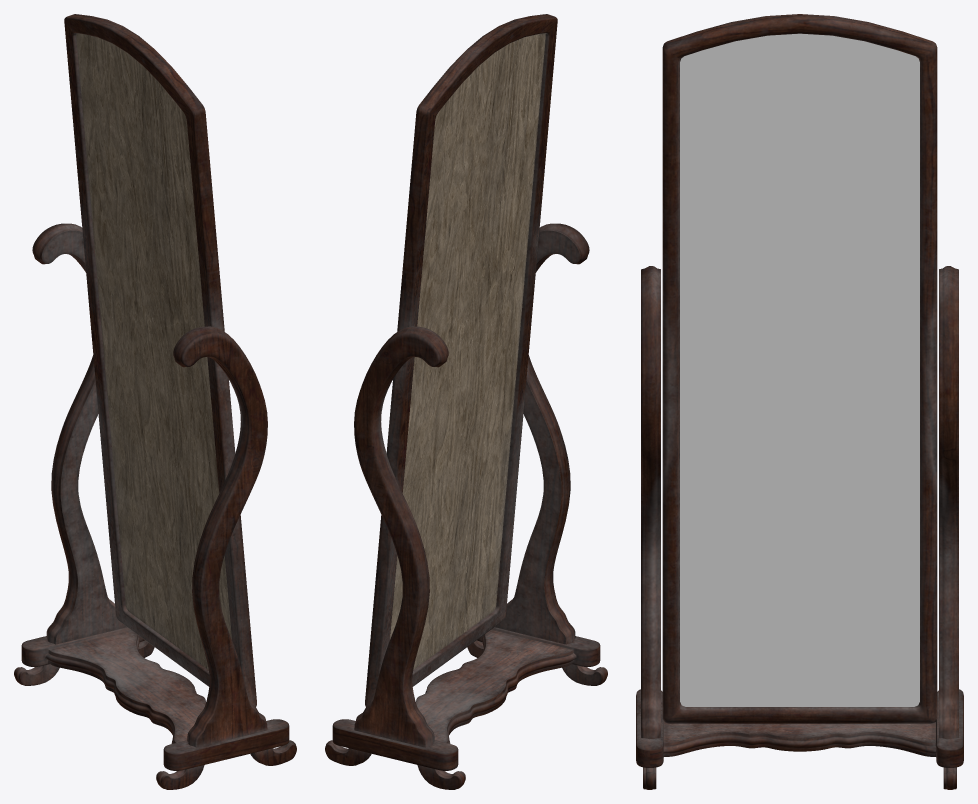
3 views of the same model, side by side, from view 1: azimuth 30°, elevation 25°; view 2: azimuth 150°, elevation 25°; view 3: azimuth 270°, elevation 25° (orthographic). The views are drawn at different scales.
Visible parts, largest first — view 1: mirrorAMirrorBack_mirrorA_Mat_0, mirrorAArms_mirrorA_Mat_0, mirrorAFrame_mirrorA_Mat_0, mirrorABasePlate_mirrorA_Mat_0, mirrorALegs_mirrorA_Mat_0; view 2: mirrorAMirrorBack_mirrorA_Mat_0, mirrorAArms_mirrorA_Mat_0, mirrorAFrame_mirrorA_Mat_0, mirrorABasePlate_mirrorA_Mat_0, mirrorALegs_mirrorA_Mat_0; view 3: mirrorAMirror_mirrorA_Mat_0, mirrorAFrame_mirrorA_Mat_0, mirrorAArms_mirrorA_Mat_0, mirrorABasePlate_mirrorA_Mat_0, mirrorALegs_mirrorA_Mat_0.
Boxes of the visible parts, x1,y1,x2,y2 form: mirrorAMirrorBack_mirrorA_Mat_0: (76,33,231,669); mirrorAArms_mirrorA_Mat_0: (32,223,267,747); mirrorAFrame_mirrorA_Mat_0: (64,14,256,706); mirrorABasePlate_mirrorA_Mat_0: (21,627,289,770); mirrorALegs_mirrorA_Mat_0: (14,640,296,789); mirrorAMirrorBack_mirrorA_Mat_0: (390,33,545,669); mirrorAArms_mirrorA_Mat_0: (354,223,589,747); mirrorAFrame_mirrorA_Mat_0: (365,14,557,706); mirrorABasePlate_mirrorA_Mat_0: (332,627,600,770); mirrorALegs_mirrorA_Mat_0: (325,640,607,789); mirrorAMirror_mirrorA_Mat_0: (680,33,919,706); mirrorAFrame_mirrorA_Mat_0: (662,14,937,723); mirrorAArms_mirrorA_Mat_0: (641,266,958,739); mirrorABasePlate_mirrorA_Mat_0: (636,689,963,767); mirrorALegs_mirrorA_Mat_0: (643,767,956,789).
Bounding box in the file's own units: 0.5457 × 2.62 × 1.06.
2 materials, 1 textured.
